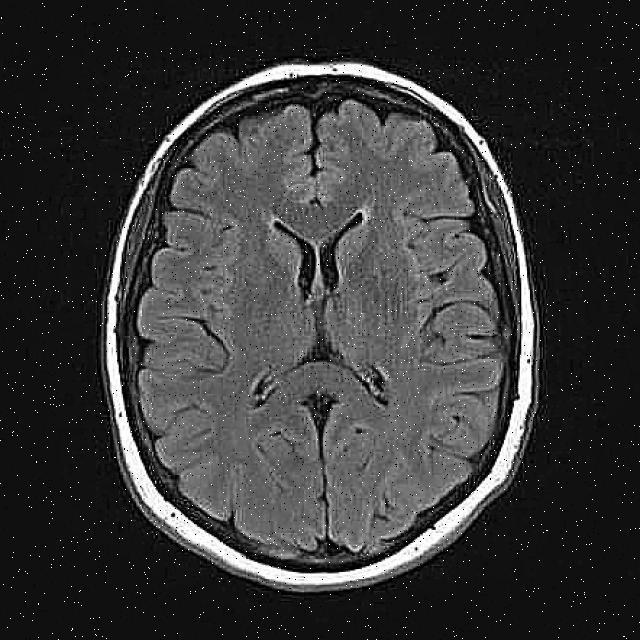No_Tumor: (102, 61, 537, 592)
